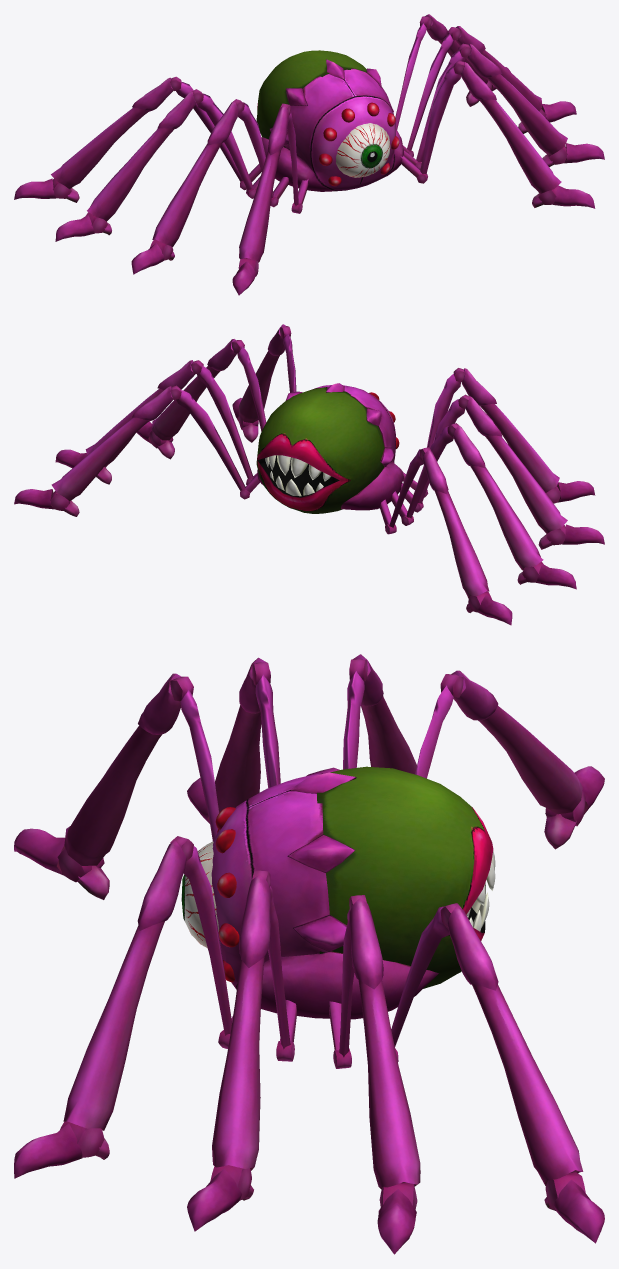
3 views of the same model, one above another, from view 1: azimuth 30°, elevation 25°; view 2: azimuth 150°, elevation 25°; view 3: azimuth 270°, elevation 25° (orthographic). The views are drawn at different scales.
Parts seen in each view (by area): view 1: parasimon; view 2: parasimon; view 3: parasimon.
Boxes of the visible parts, box(x1,y1,x2,y2) form: parasimon: box(14, 14, 604, 295); parasimon: box(14, 324, 604, 625); parasimon: box(14, 654, 604, 1254).
Size of the model in its own units: 713 by 190 by 372.
Materials: 1 (1 with a texture image).
